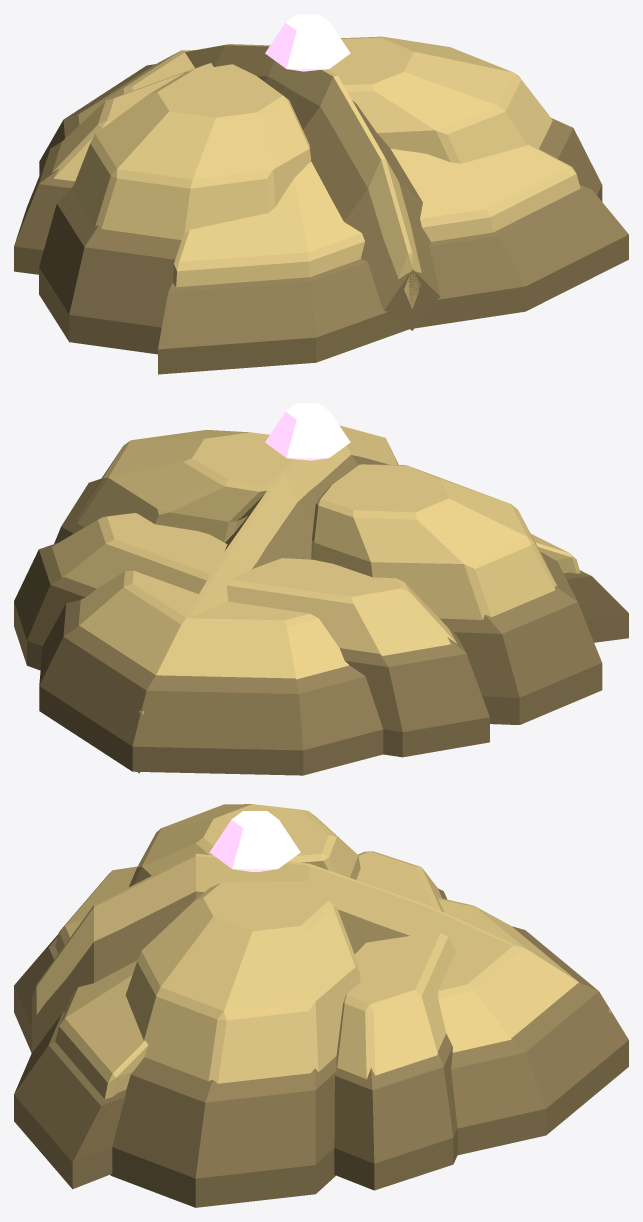
The model's file is armor_chest.glb.
The picture shows the model from 3 angles, top to bottom: view 1: azimuth 30°, elevation 25°; view 2: azimuth 150°, elevation 25°; view 3: azimuth 270°, elevation 25°; orthographic projection. The views are drawn at different scales.
Parts seen in each view (by area): view 1: chest; view 2: chest; view 3: chest.
Boxes of the visible parts, x1,y1,x2,y2 form: chest: (14, 14, 628, 374); chest: (14, 403, 628, 775); chest: (14, 804, 628, 1207).
Bounding box in the file's own units: 0.4883 × 0.209 × 0.4576.
